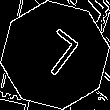L_SW: (28, 25, 82, 85)
